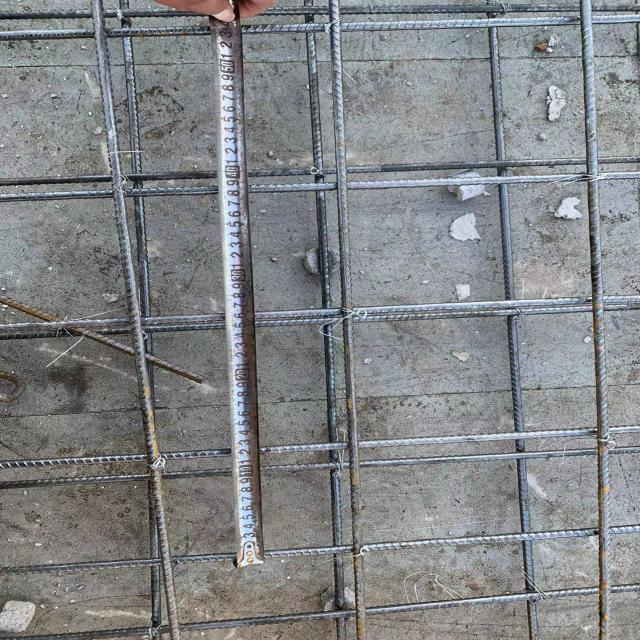ribbed bar: (90, 0, 183, 639), (0, 581, 639, 639), (0, 524, 639, 581), (489, 0, 540, 639), (0, 291, 639, 341), (0, 422, 639, 470), (0, 444, 639, 491), (301, 0, 347, 639), (330, 0, 371, 639), (121, 0, 162, 639), (579, 0, 613, 639), (0, 170, 639, 203), (0, 154, 639, 186), (0, 13, 639, 40), (0, 2, 639, 21)
